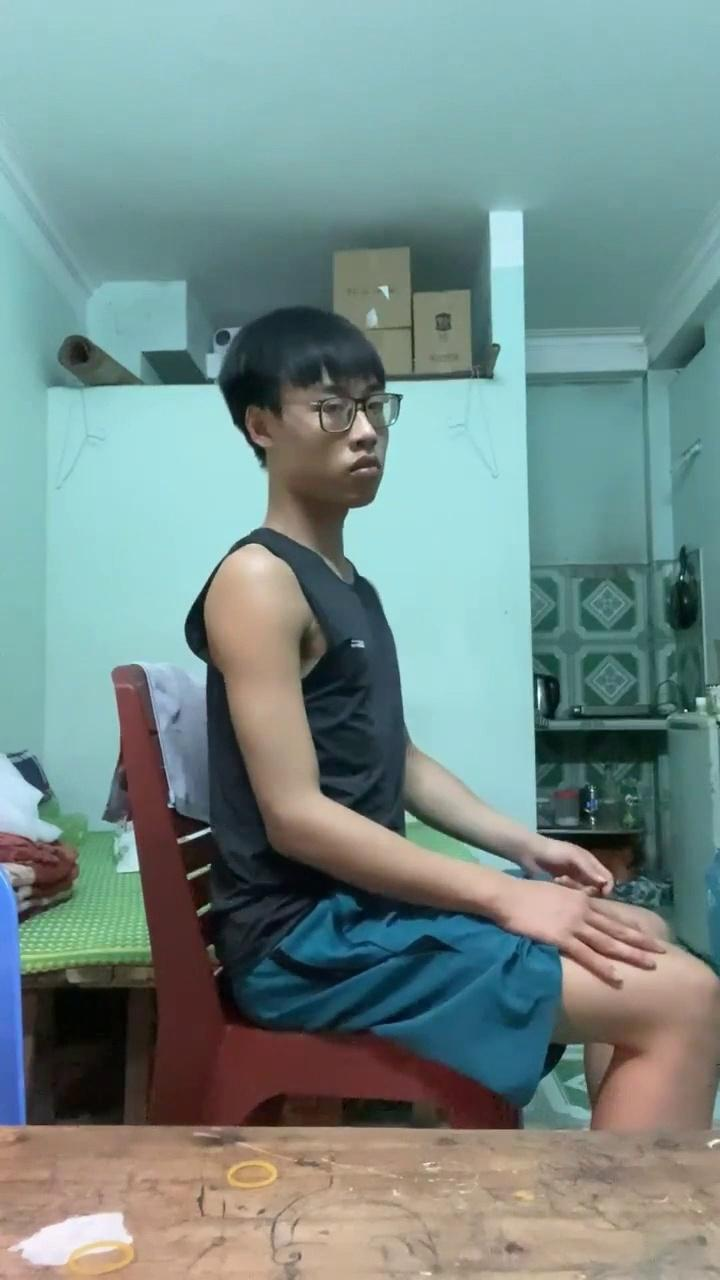GoodPosture: (185, 306, 719, 1126)
